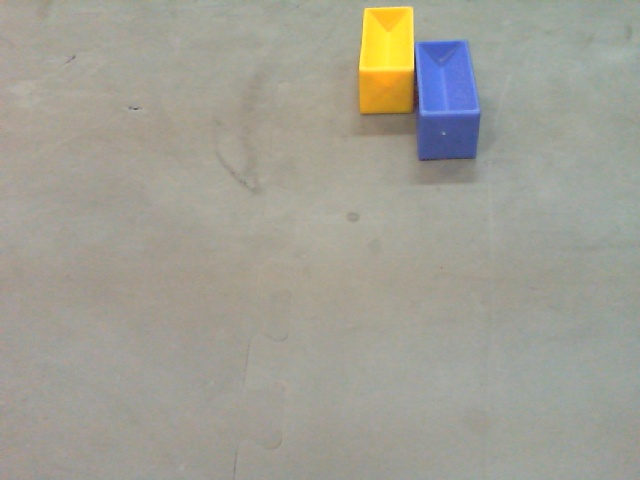BlueSample: (416, 38, 481, 163)
YellowSample: (356, 6, 415, 115)
